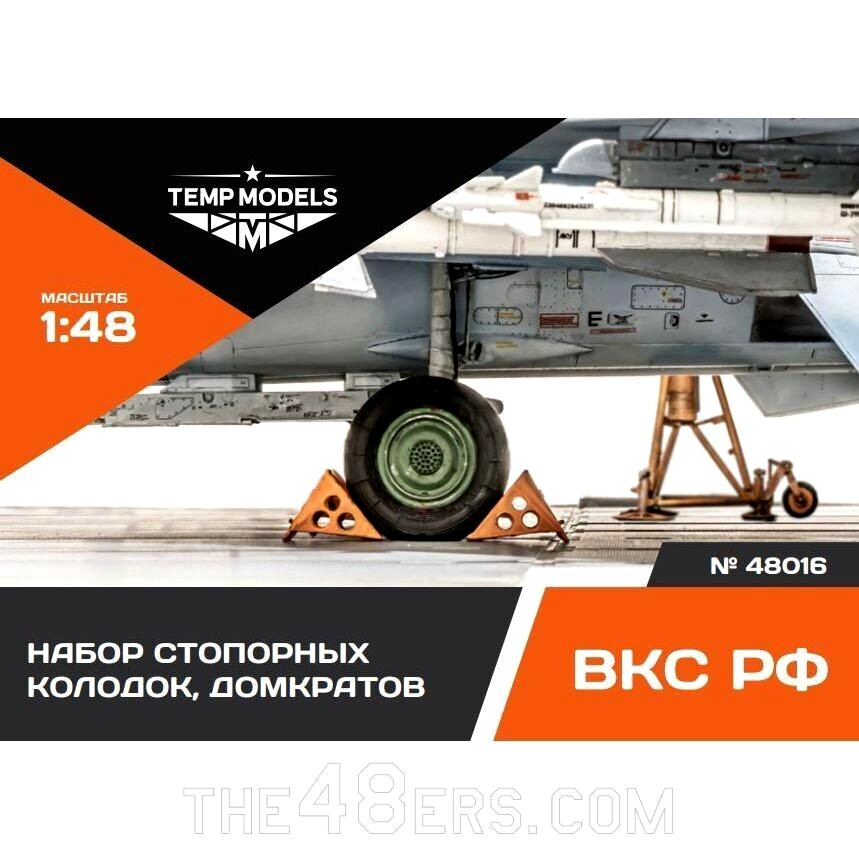chock: (464, 471, 568, 544), (282, 470, 383, 542)
wheel: (342, 372, 509, 536), (780, 479, 817, 517)
